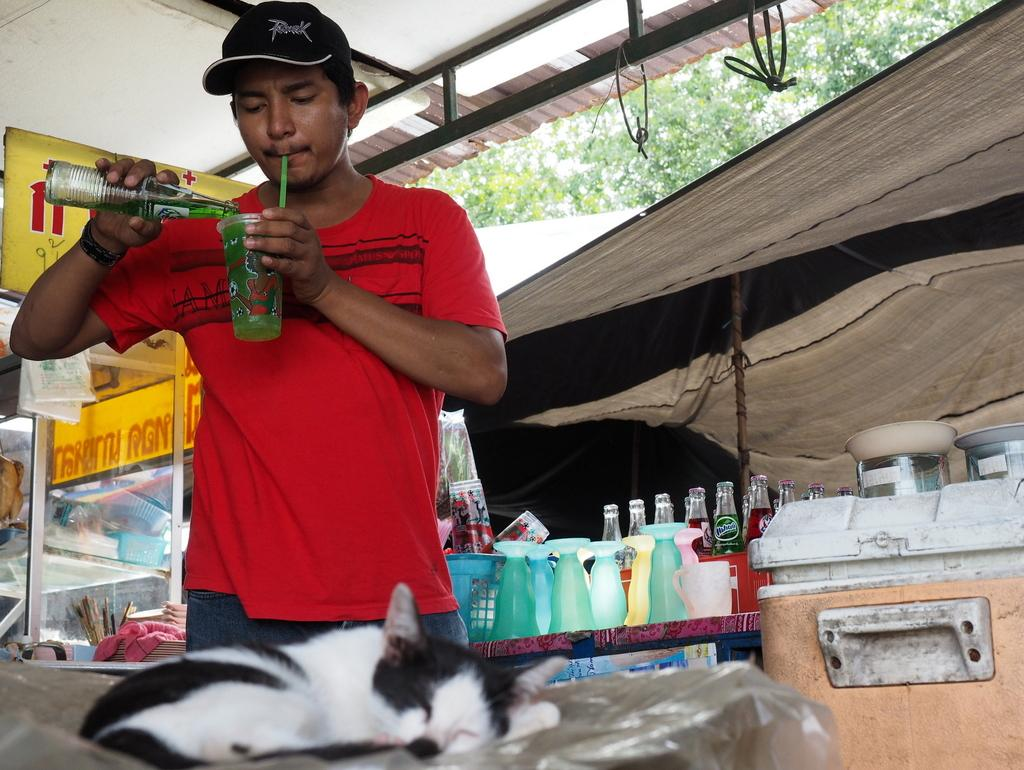Hat: (200, 1, 350, 96)
